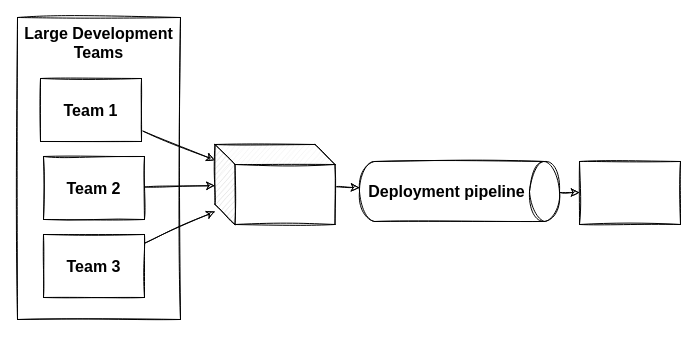
Image size: 698x337. Some labels were removed from this diagram. Each missing label, with the box of its shape:
Production: (578, 160, 680, 224)
Single Code Base: (214, 144, 335, 224)
